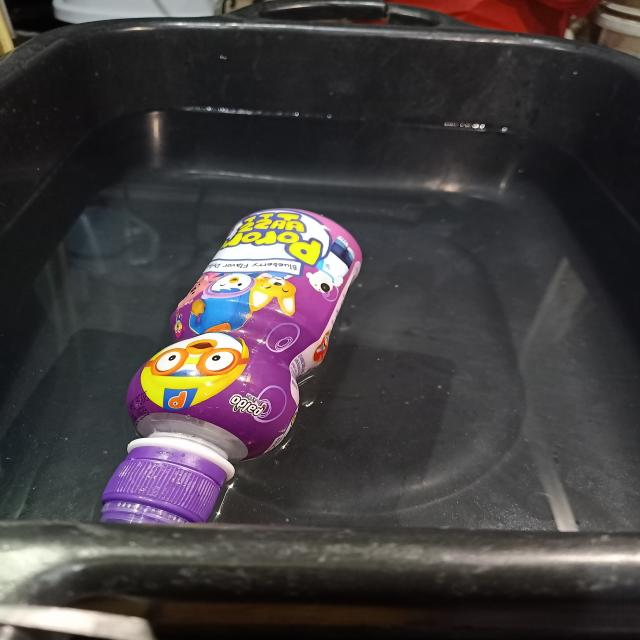Plastic Bottle: (102, 208, 362, 522)
